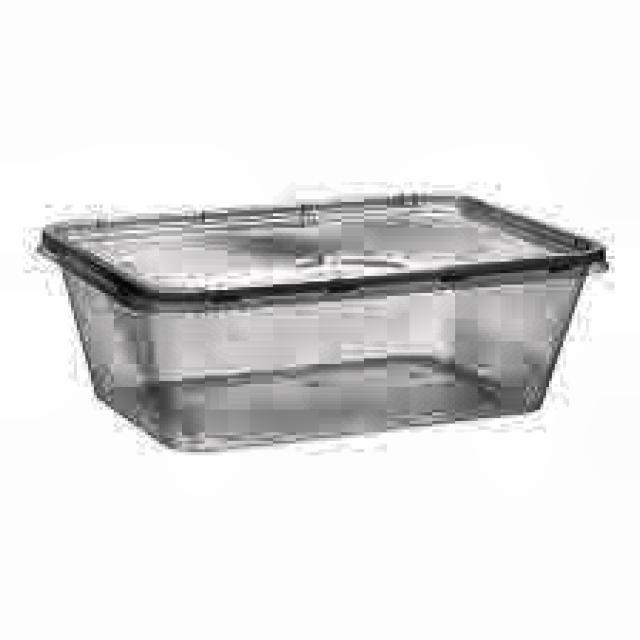plastic container: (42, 196, 602, 449)
